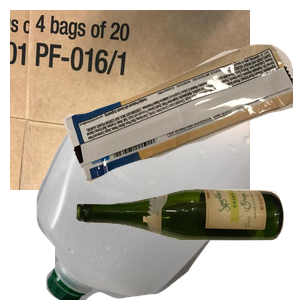cardboard: (10, 10, 250, 190)
glass: (74, 186, 300, 300)
plastic: (34, 120, 274, 300)
trash: (60, 42, 300, 219)
